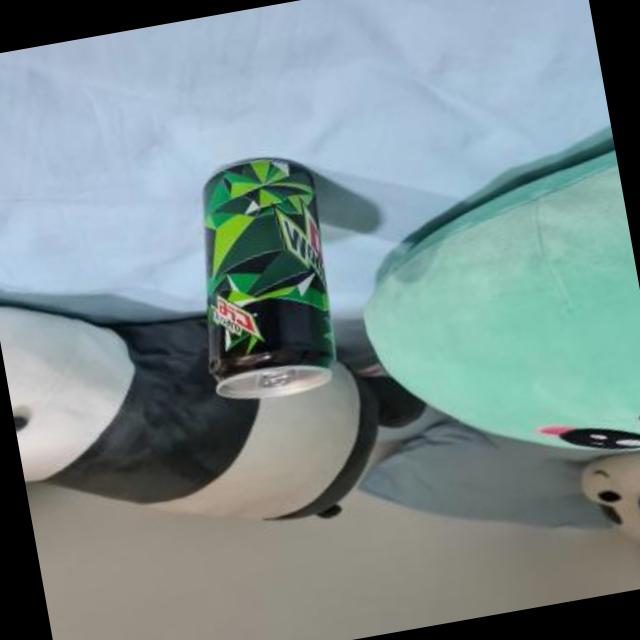metal: (202, 158, 333, 397)
